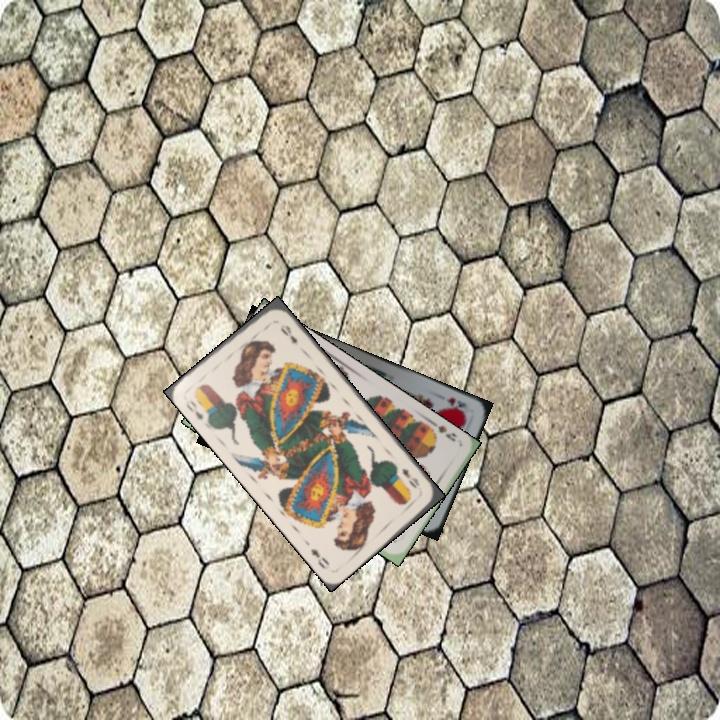EO: (398, 464, 422, 492), (182, 396, 206, 423)
HK: (442, 393, 471, 416)
S9: (423, 416, 459, 444)
